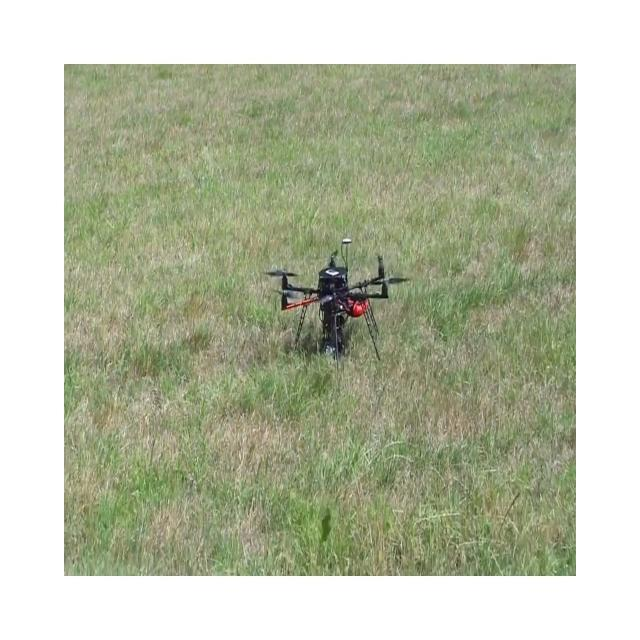drone: (264, 237, 410, 362)
